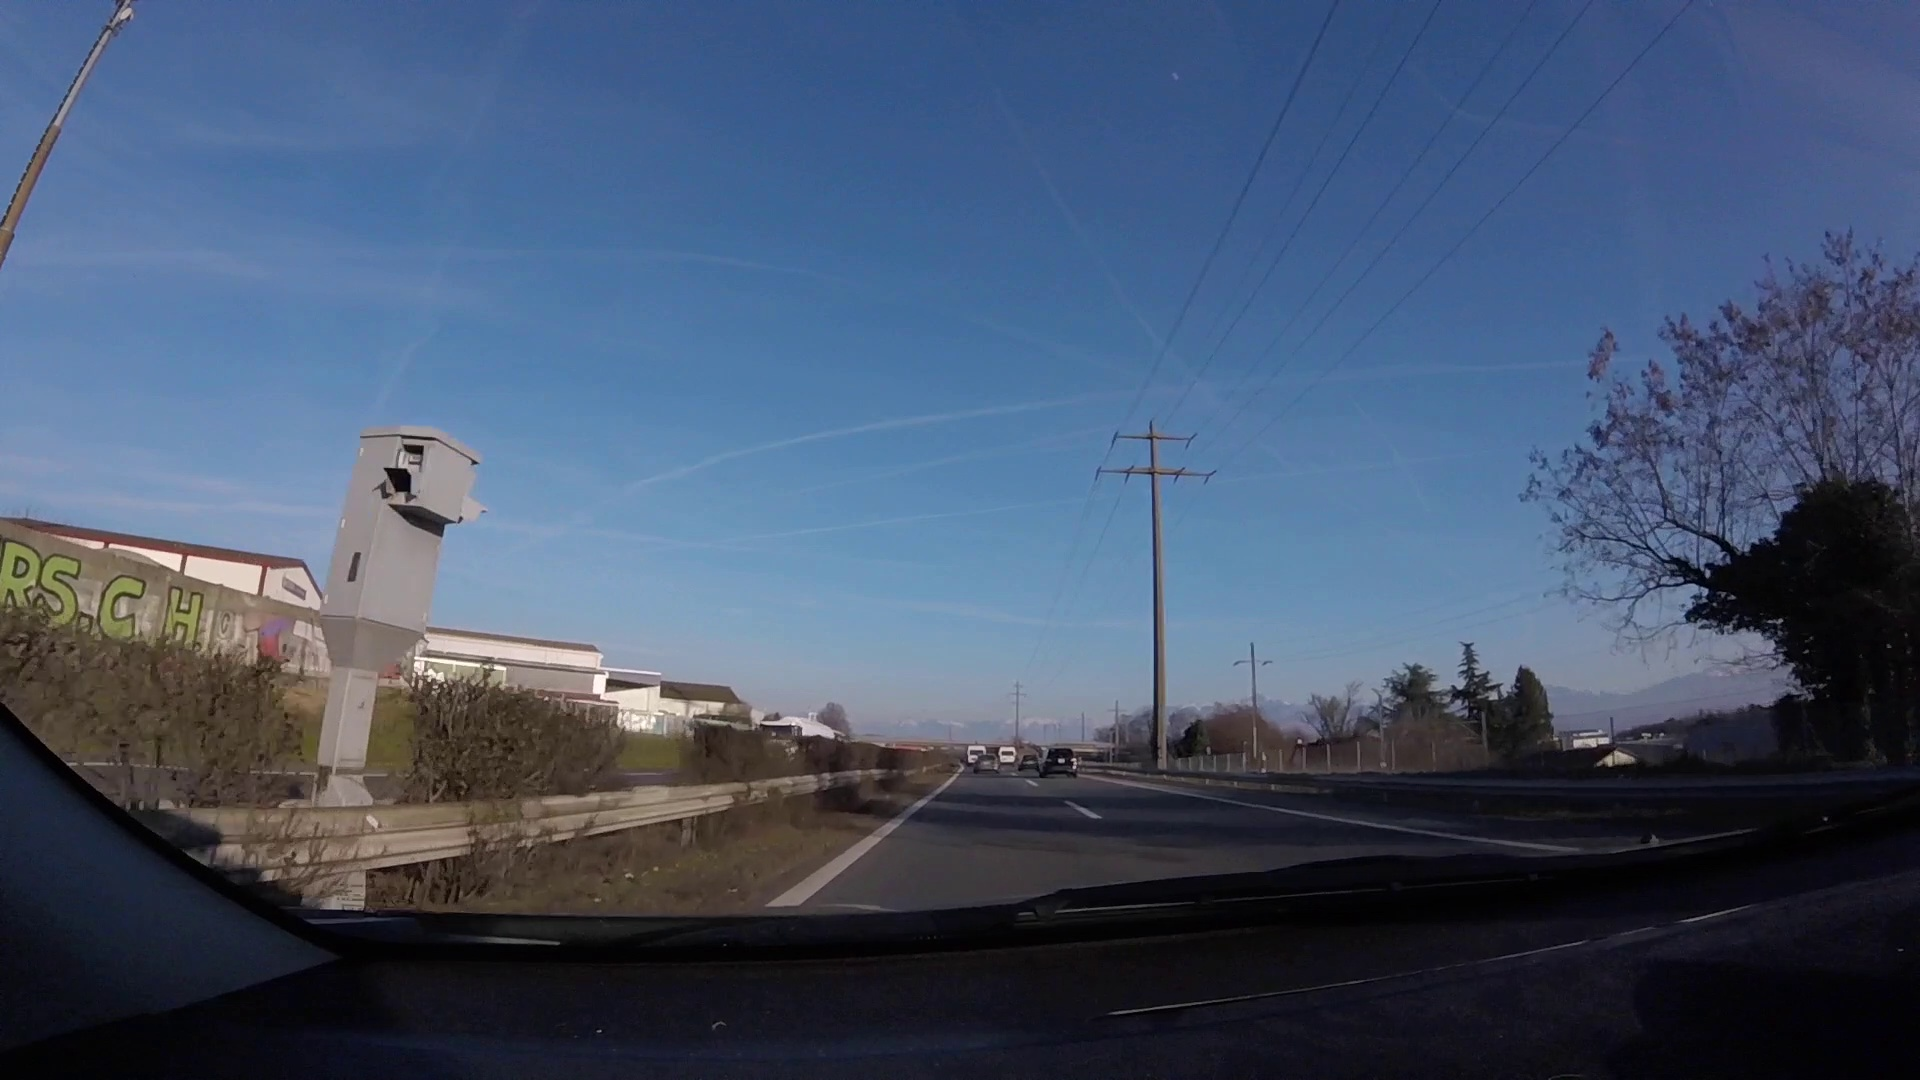radar: (315, 425, 491, 758)
